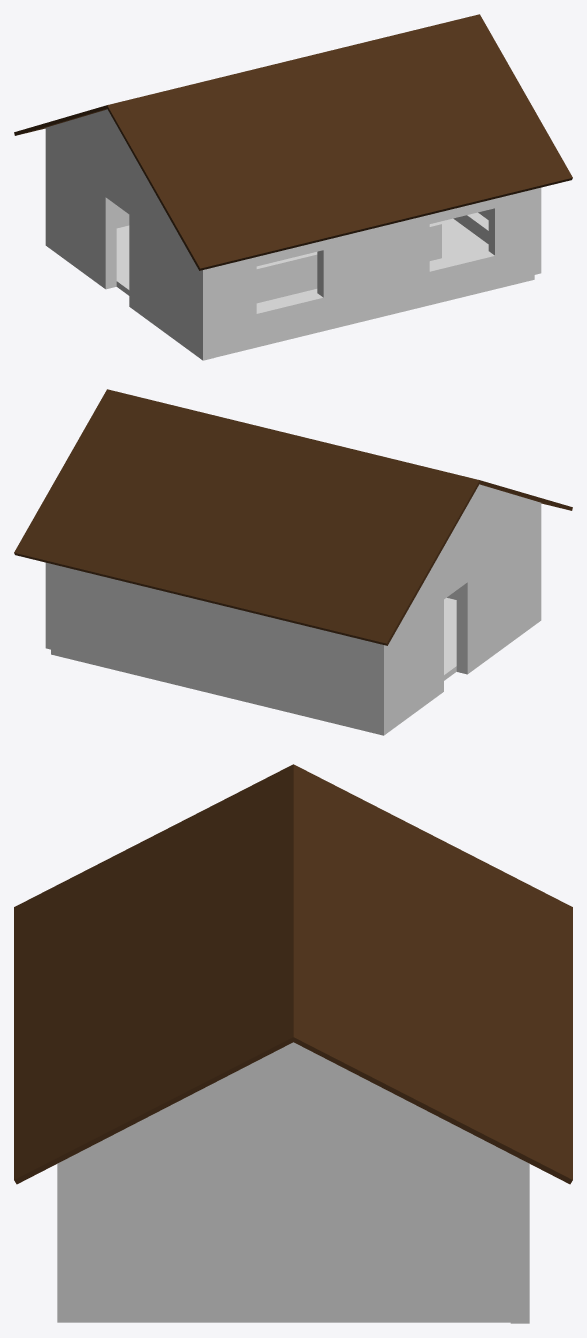
File: Shop.fbx
The picture shows the model from 3 angles, top to bottom: view 1: azimuth 30°, elevation 25°; view 2: azimuth 150°, elevation 25°; view 3: azimuth 270°, elevation 25°; orthographic projection. The views are drawn at different scales.
Parts seen in each view (by area): view 1: Plane, Walls; view 2: Plane, Walls; view 3: Plane, Walls.
Part boxes in pixels (bbox=[...]): Plane: bbox=[14, 14, 572, 270]; Walls: bbox=[45, 109, 541, 360]; Plane: bbox=[14, 389, 572, 645]; Walls: bbox=[45, 484, 541, 735]; Plane: bbox=[14, 764, 572, 1184]; Walls: bbox=[57, 1042, 529, 1323].
Bounding box in the file's own units: 1366 × 708 × 1183.
